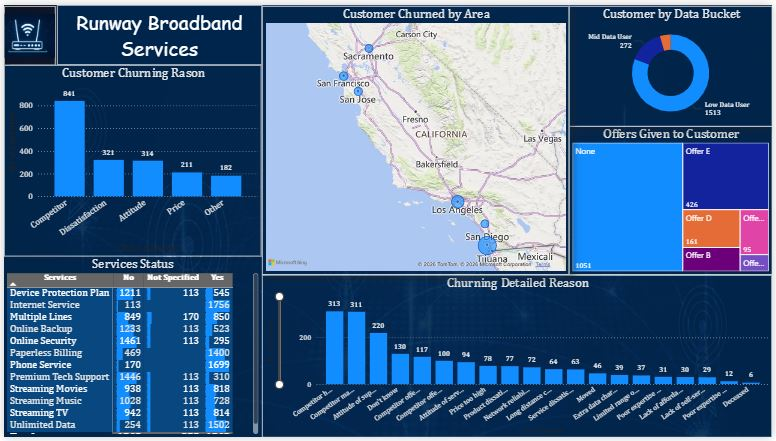

The dashboard page shown, as its layout file describes it:
{"tool":"powerbi","page":{"name":"Churned","canvas":[1280,720],"ordinal":1},"visuals":[{"type":"textbox","box":[87.6,0,341.8,99.8],"z":0,"group":"g1"},{"type":"image","box":[0,1.7,86.1,99],"z":1000,"group":"g1"},{"type":"group","id":"g1","title":"Group 1","box":[0,0,429.4,100.6],"z":4000},{"type":"treemap","title":"Offers Given to Customer","fields":{"Group":["Original.Offer"],"Values":["CountNonNull(Original.Customer ID)"]},"box":[941.1,201.3,338.7,248],"z":6000},{"type":"columnChart","title":"Customer Churning Rason","fields":{"Category":["Original.Churn Category"],"Y":["CountNonNull(Data.Customer ID)"]},"box":[0,100.6,429.4,318.9],"z":7000},{"type":"columnChart","title":"Churning Detailed Reason","fields":{"Category":["Original.Churn Reason"],"Y":["CountNonNull(Original.Customer ID)"]},"box":[429.4,449.3,850.4,270.7],"z":8000},{"type":"donutChart","title":"Customer by Data Bucket","fields":{"Category":["Original.Data Bucket"],"Y":["Count(Original.Customer ID)"]},"box":[941.1,1.4,338.7,201.3],"z":10000},{"type":"map","title":"Customer Churned by Area","fields":{"Size":["CountNonNull(Original.Customer ID)"],"Category":["Original.City"]},"box":[429.4,1.4,511.7,447.9],"z":11000},{"type":"pivotTable","title":"Services Status","fields":{"Rows":["Services.Attribute"],"Columns":["Services.Value"],"Values":["Count(Services.Customer ID)"]},"box":[0,419.5,429.4,300.5],"z":11001}]}

Visuals, with their boxes in screenshot pixels (x1, y1, x2, y2), scaled from the page's 1280x720 canvas onto the 776x441 screenshot:
textbox: <box>53,0,260,61</box>
image: <box>0,1,52,62</box>
"Group 1" group: <box>0,0,260,62</box>
"Offers Given to Customer" treemap: <box>571,123,775,275</box>
"Customer Churning Rason" columnChart: <box>0,62,260,257</box>
"Churning Detailed Reason" columnChart: <box>260,275,775,440</box>
"Customer by Data Bucket" donutChart: <box>571,1,775,124</box>
"Customer Churned by Area" map: <box>260,1,571,275</box>
"Services Status" pivotTable: <box>0,257,260,440</box>
